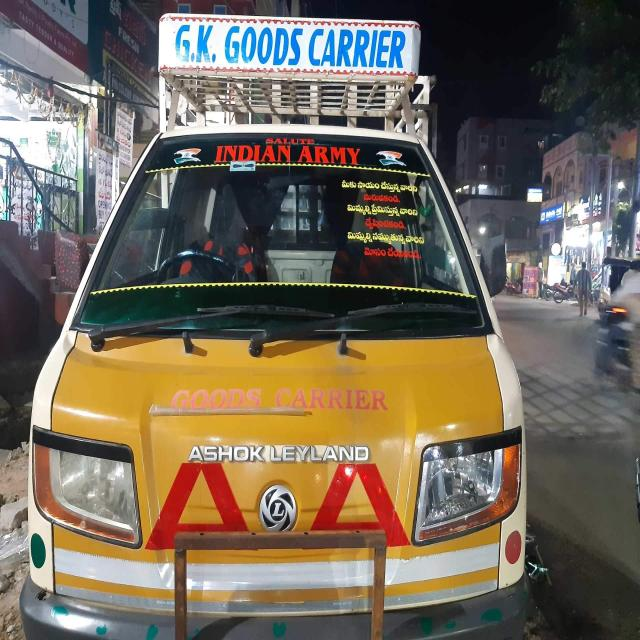truck: (20, 15, 528, 638)
